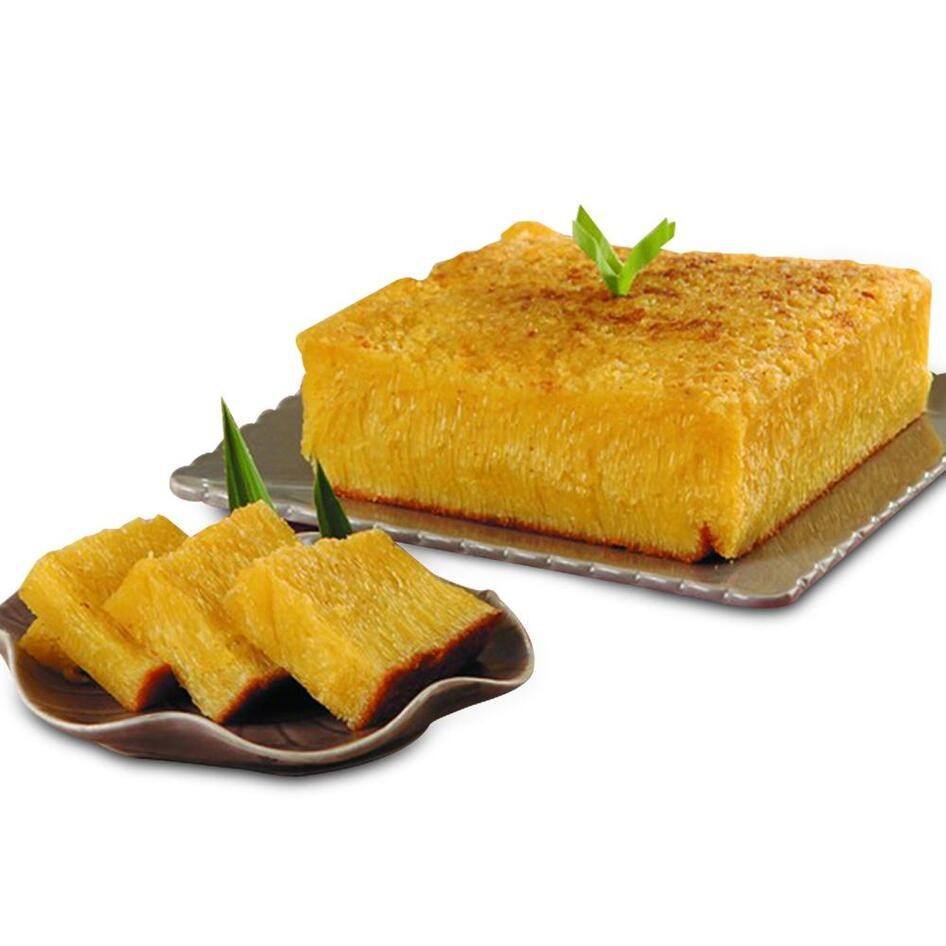bika_ambon: (264, 291, 743, 573), (239, 514, 494, 722)
